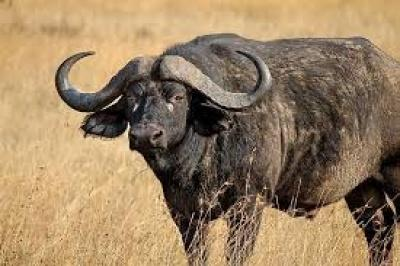buffalo: (54, 33, 400, 266)
